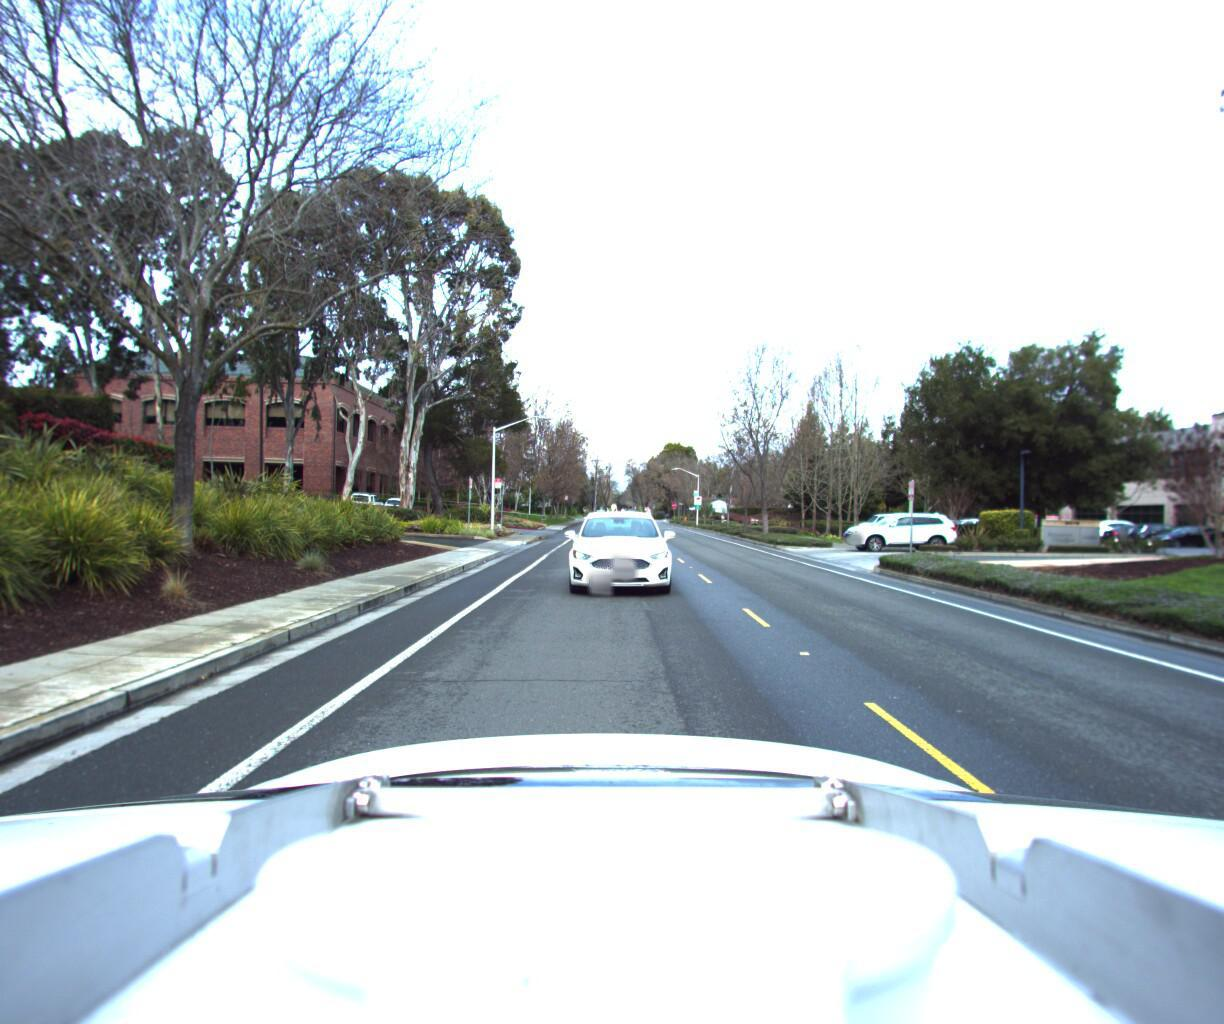car: (556, 507, 684, 606), (838, 510, 964, 556)
